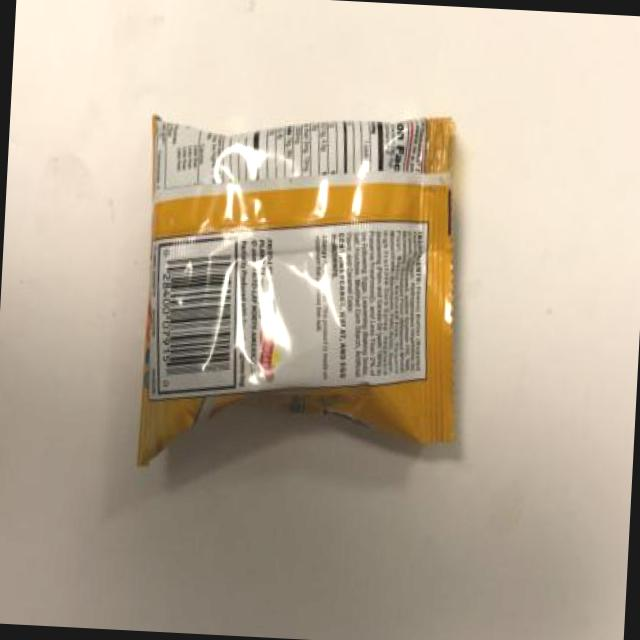bao_bi_thuc_pham: (140, 114, 459, 461)
